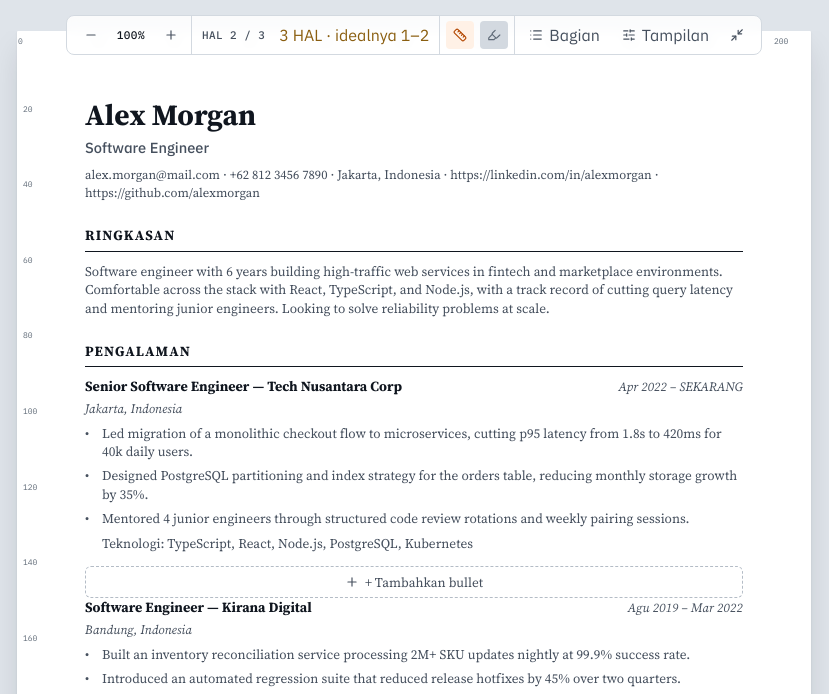
Test case: editor in-place di atas kertas (C3.1) › field wajib dikosongkan: nilai kosong ditulis, guide tampil lagi
Click the button "Alex Morgan": (171, 116) [85, 99, 256, 133]
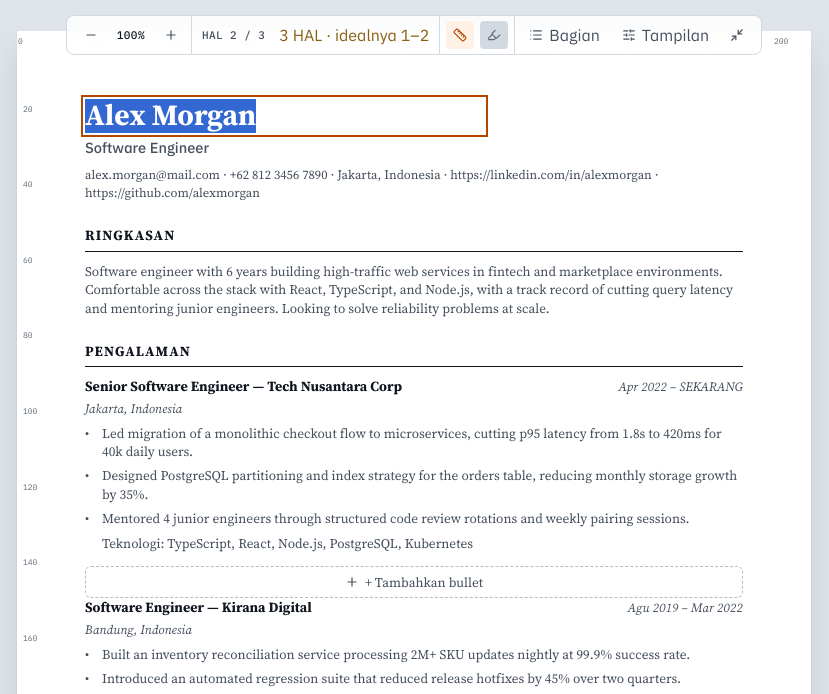
Clear the field with class "canvas-editor": (284, 116) [85, 99, 484, 133]
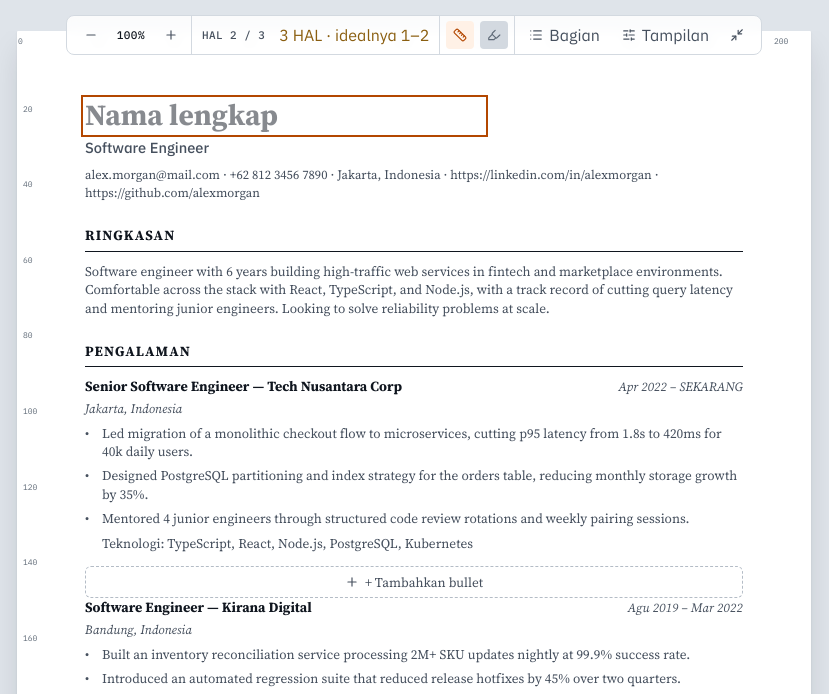
Press Enter
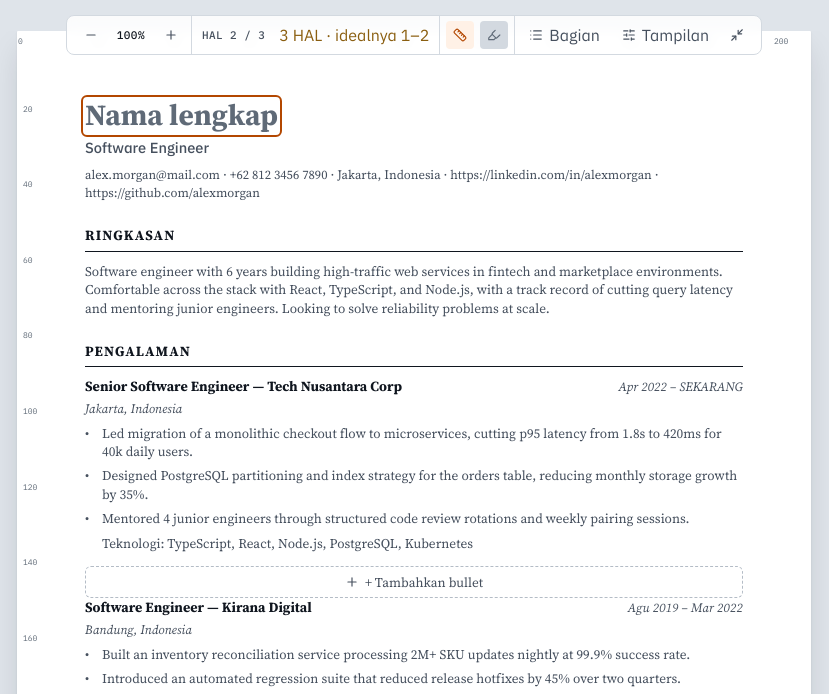
Now the field with class "canvas-editor" is gone
Now the button "Nama lengkap" is shown, box [85, 99, 278, 133]
